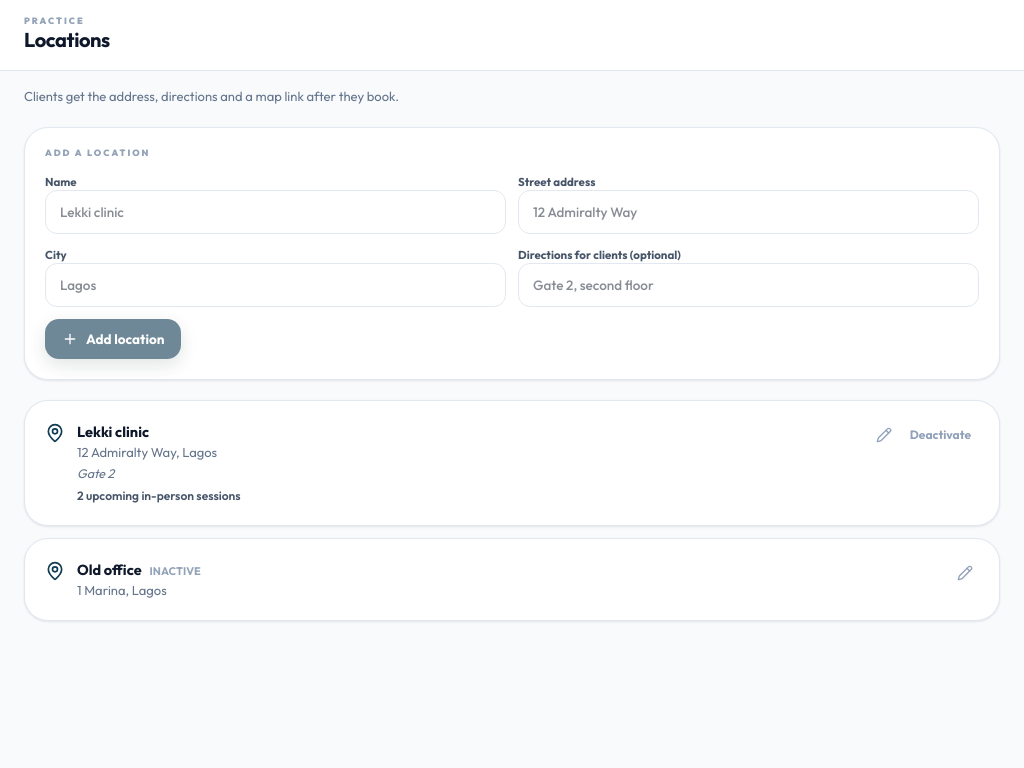
Test: the locations page › deactivates with a confirm and shows the server refusal text as is
Expected: the text "Lekki clinic" is shown, [77,422,149,441]
Click the button with aria-label "deactivate Lekki clinic": [940, 435] box [902,421,979,449]
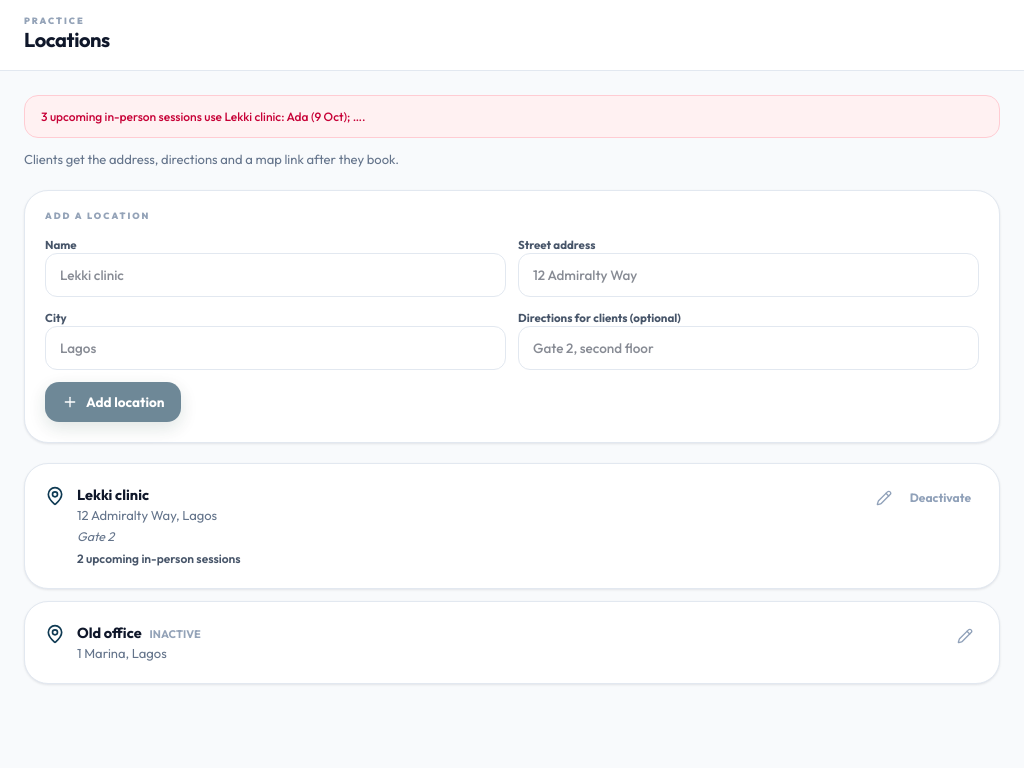
Expected: the text "3 upcoming in-person sessions use Lekki clinic: Ada (9 Oct); …." is shown, [24,95,1000,138]
